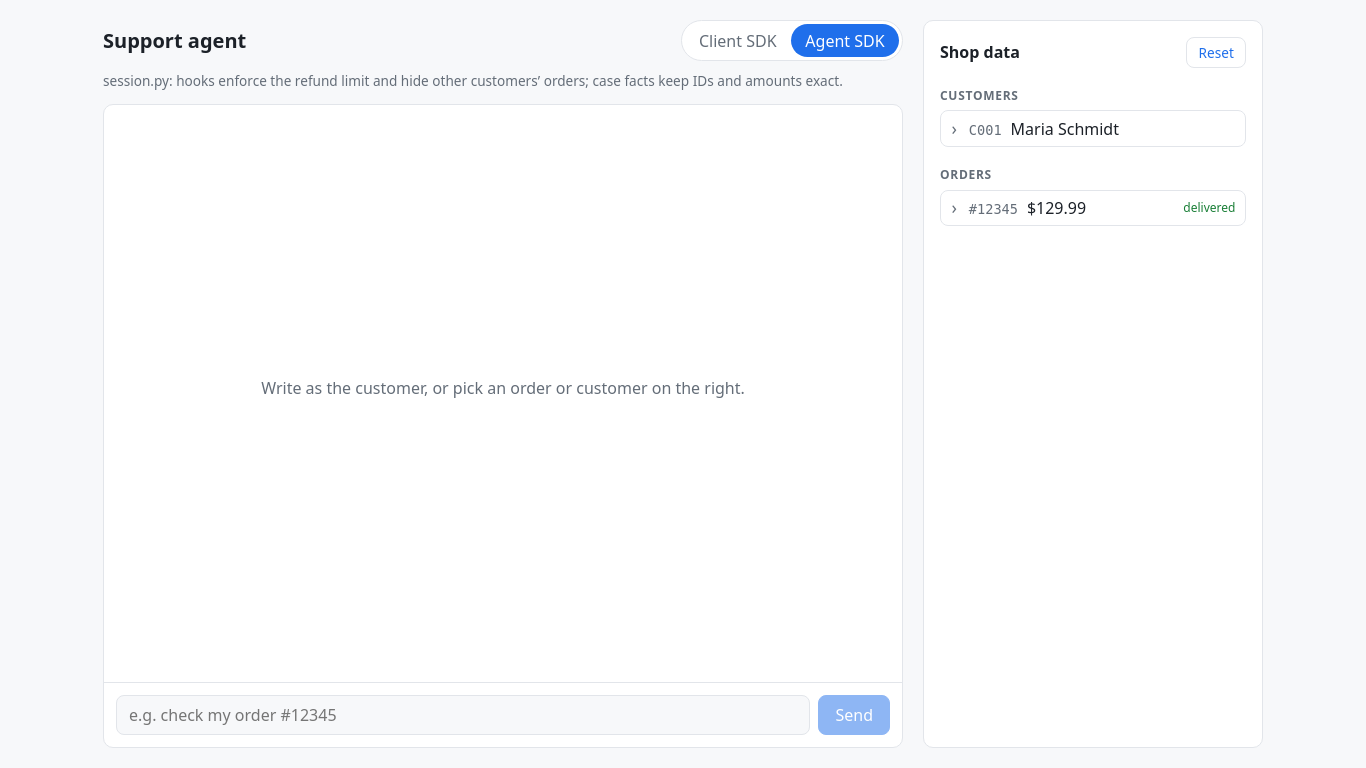
Test case: a row opens to show a compact record as JSON and fills the message
Click the text "#12345": {"x": 993, "y": 209} [969, 201, 1018, 217]
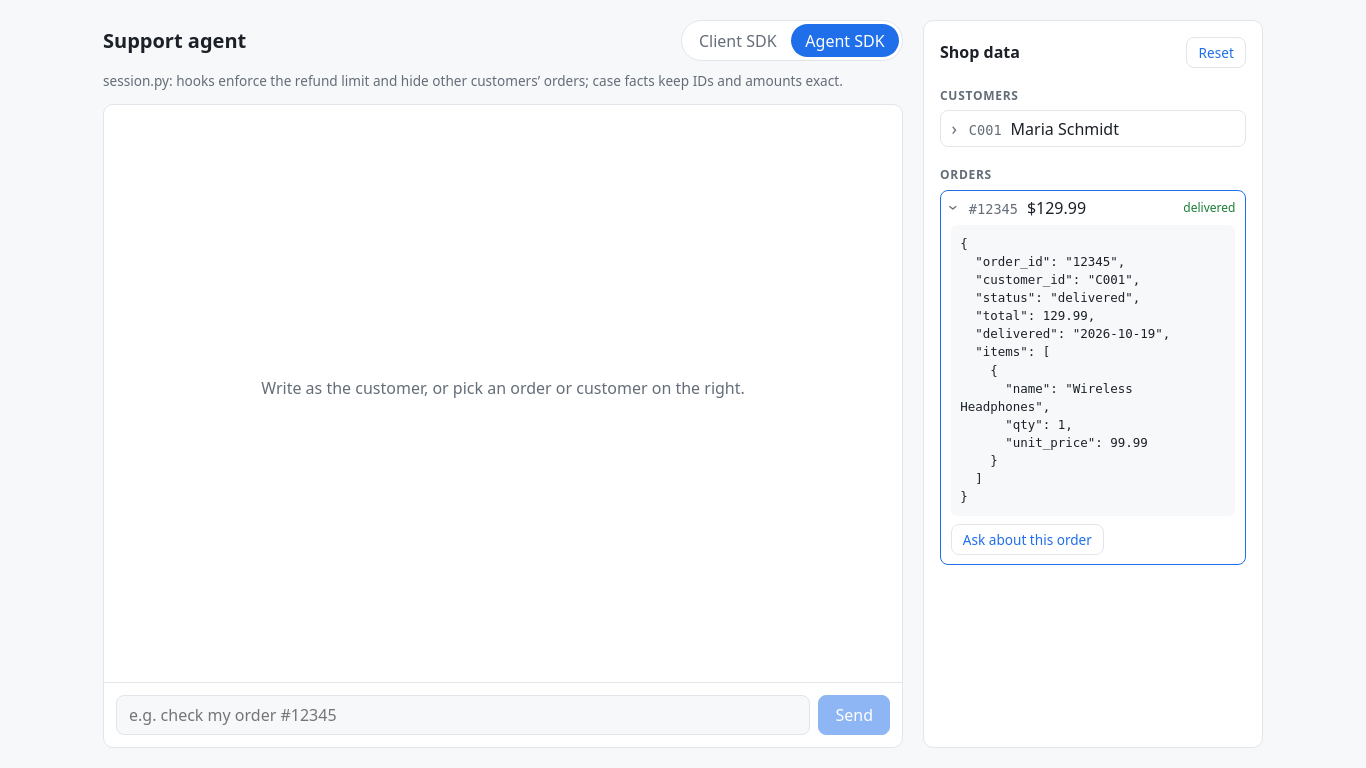
Click the button "Ask about this order": {"x": 1027, "y": 539} [951, 524, 1104, 554]
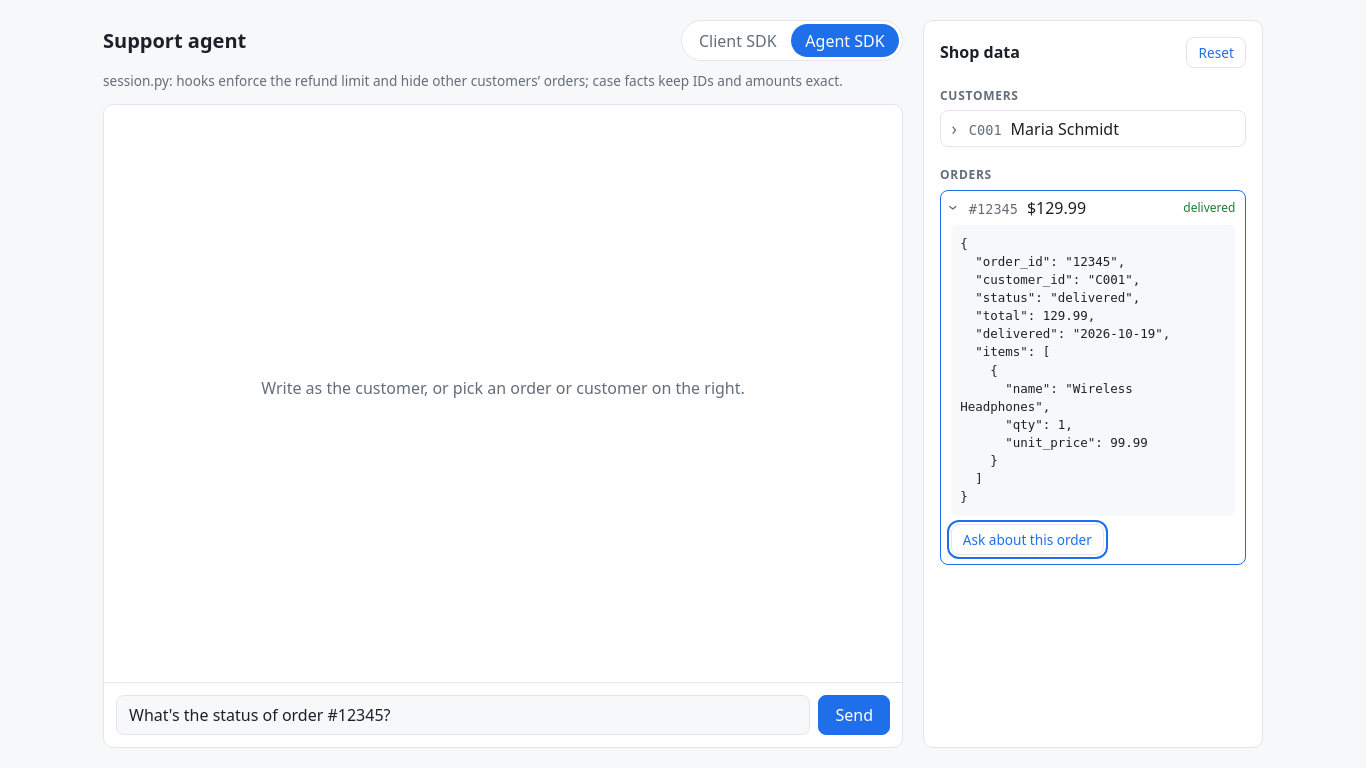
Check: the text "\"delivered\": \"2026-10-19\"" is shown, box [960, 236, 1170, 504]
Check: the field named "Message" holds "What's the status of order #12345?", box [116, 695, 810, 735]
